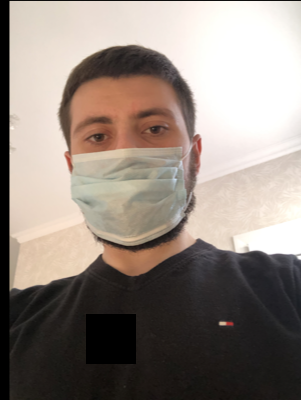with_mask: (69, 100, 195, 253)
